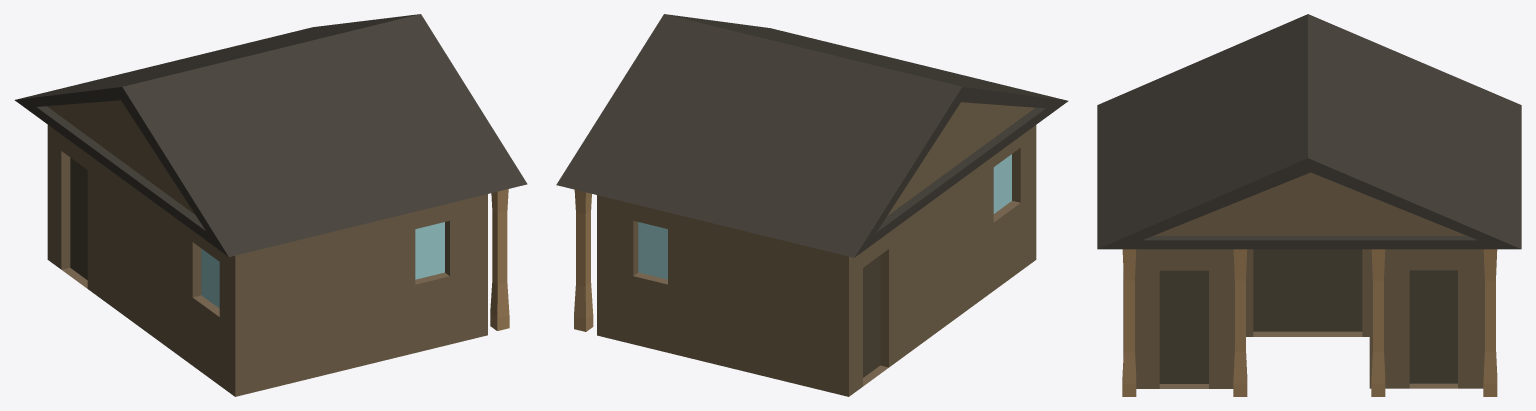
Rendered from Cochero_House5.fbx.
3 renders of one model, left to right at view 1: azimuth 30°, elevation 25°; view 2: azimuth 150°, elevation 25°; view 3: azimuth 270°, elevation 25°, orthographic.
Parts seen in each view (by area): view 1: Cube.001; view 2: Cube.001; view 3: Cube.001.
Boxes of the visible parts, left/top/right/bottom form: Cube.001: left=14, top=14, right=527, bottom=396; Cube.001: left=556, top=14, right=1068, bottom=396; Cube.001: left=1097, top=14, right=1521, bottom=396.
Size of the model in its own units: 1081 by 852 by 1345.
